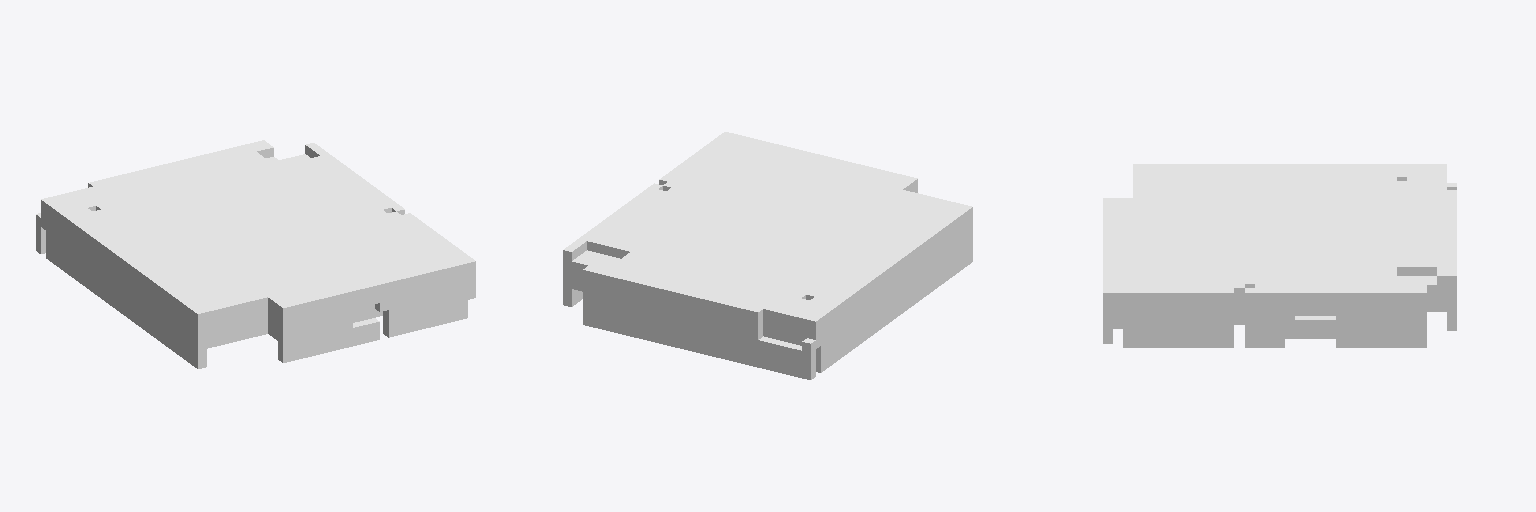
File: plat1.obj
3 views of the same model, side by side, from view 1: azimuth 30°, elevation 25°; view 2: azimuth 150°, elevation 25°; view 3: azimuth 270°, elevation 25° (orthographic).
Visible parts, largest first — view 1: plat1; view 2: plat1; view 3: plat1.
Part boxes in pixels (left/top/right/bottom): plat1: left=36, top=140, right=475, bottom=368; plat1: left=563, top=132, right=972, bottom=379; plat1: left=1103, top=164, right=1456, bottom=347.
Bounding box in the file's own units: 30 × 6 × 35.